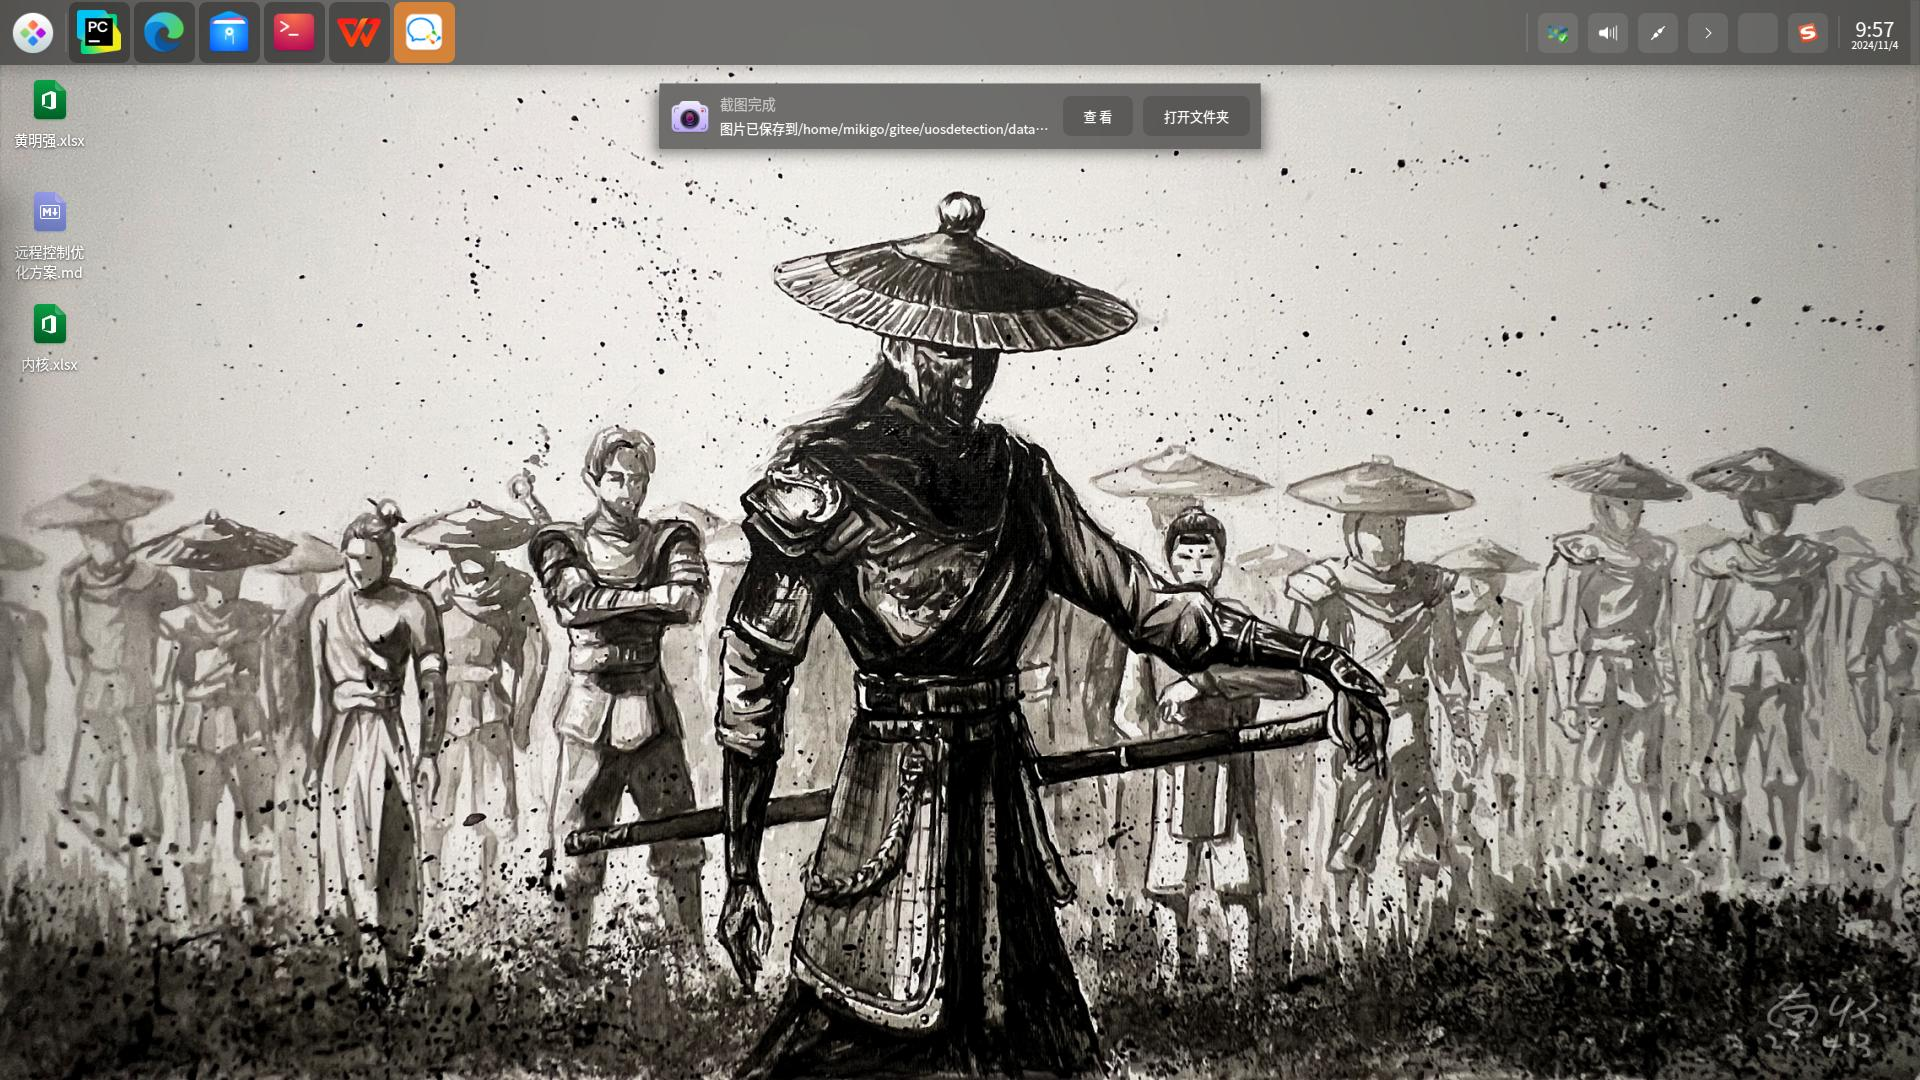dde_file_manager_icon: (208, 7, 251, 54)
dde_launcher_icon: (11, 9, 57, 55)
